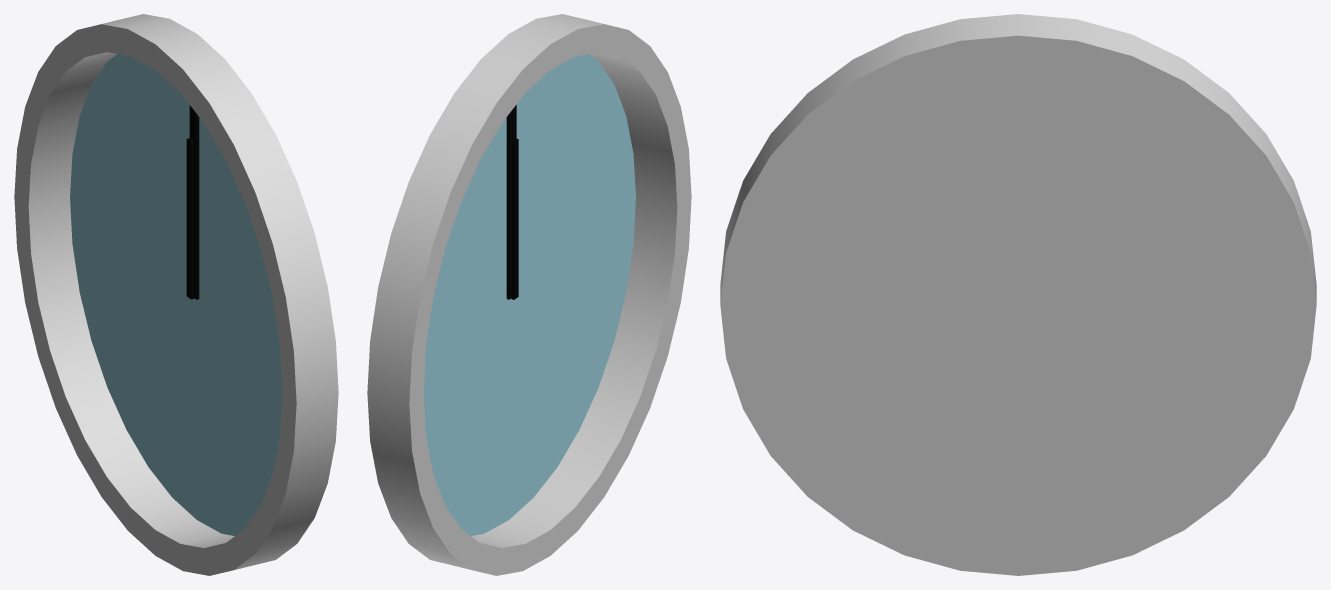
File: Uhr.glb
3 renders of one model, left to right at view 1: azimuth 30°, elevation 25°; view 2: azimuth 150°, elevation 25°; view 3: azimuth 270°, elevation 25°, orthographic. The views are drawn at different scales.
Visible parts, largest first — view 1: Cylinder, Cylinder.001, Cylinder.002; view 2: Cylinder, Cylinder.001, Cylinder.002; view 3: Cylinder.
Part boxes in pixels (x1,y1,x2,y2): Cylinder: (14, 14, 338, 575); Cylinder.001: (189, 105, 199, 299); Cylinder.002: (186, 138, 193, 299); Cylinder: (367, 14, 691, 575); Cylinder.001: (506, 105, 516, 299); Cylinder.002: (511, 138, 518, 299); Cylinder: (720, 14, 1316, 575).
Size of the model in its own units: 0.0219 by 0.2552 by 0.2552.
